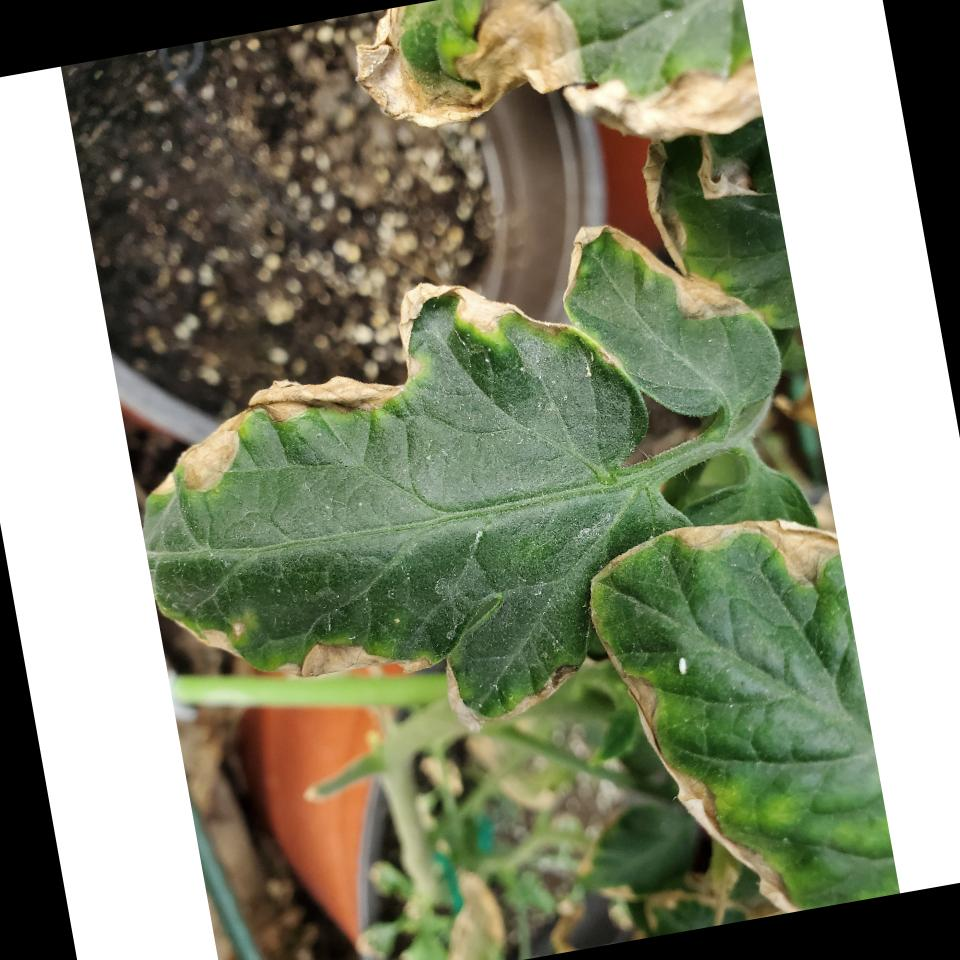tomato_bacterial_blight: (122, 338, 600, 712), (570, 505, 900, 940), (540, 180, 800, 480)
